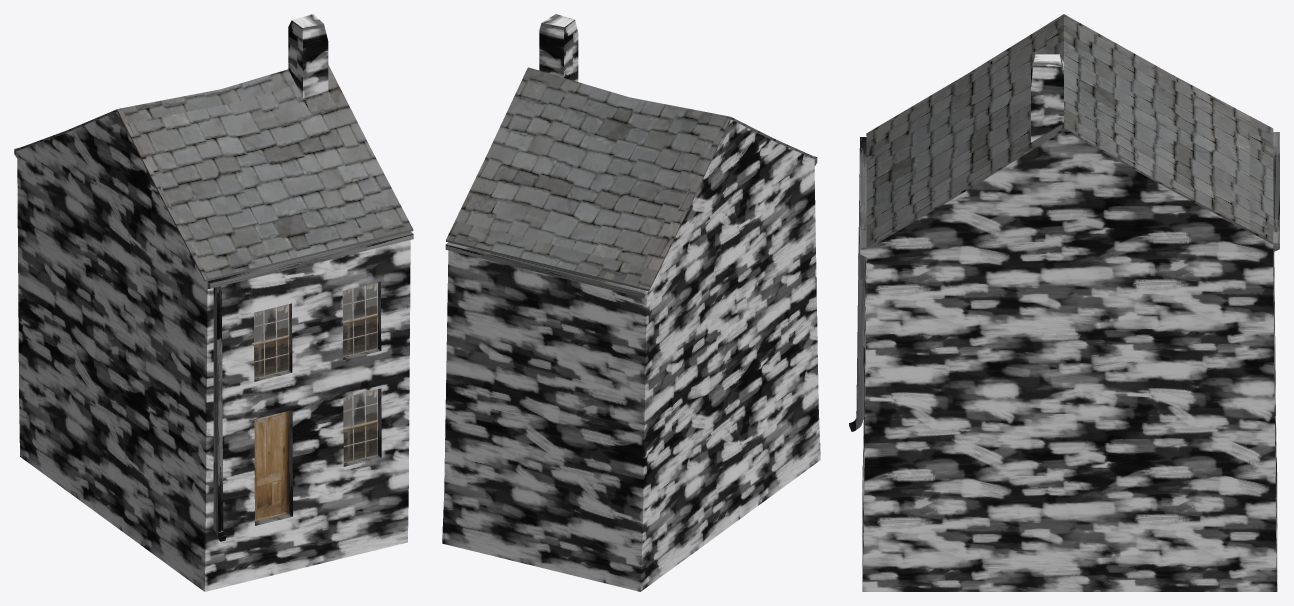
The model's file is cottage_02.glb.
The picture shows the model from 3 angles, left to right: view 1: azimuth 30°, elevation 25°; view 2: azimuth 150°, elevation 25°; view 3: azimuth 270°, elevation 25°; orthographic projection. The views are drawn at different scales.
Parts seen in each view (by area): view 1: Walls, Roof, Windows, Trim, Door, Chimney-col, WindowTrim; view 2: Walls, Roof, Chimney-col, Trim; view 3: Walls, Roof, Trim, Chimney-col.
Boxes of the visible parts, x1,y1,x2,y2 form: Walls: (14,112,413,591); Roof: (14,65,412,281); Windows: (254,282,377,463); Trim: (14,147,413,541); Door: (254,411,289,522); Chimney-col: (288,14,328,97); WindowTrim: (254,281,381,525); Walls: (442,119,820,591); Roof: (446,67,816,290); Chimney-col: (539,14,578,81); Trim: (445,156,817,298); Walls: (860,130,1277,591); Roof: (866,14,1273,249); Trim: (849,132,1279,431); Chimney-col: (1031,54,1063,142).
Size of what is drawn, in the model's own units: 4.28 by 8.75 by 6.54.
5 materials, 5 textured.
